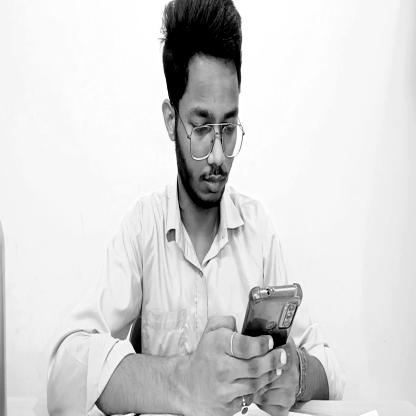Distracted: (164, 1, 248, 217)
